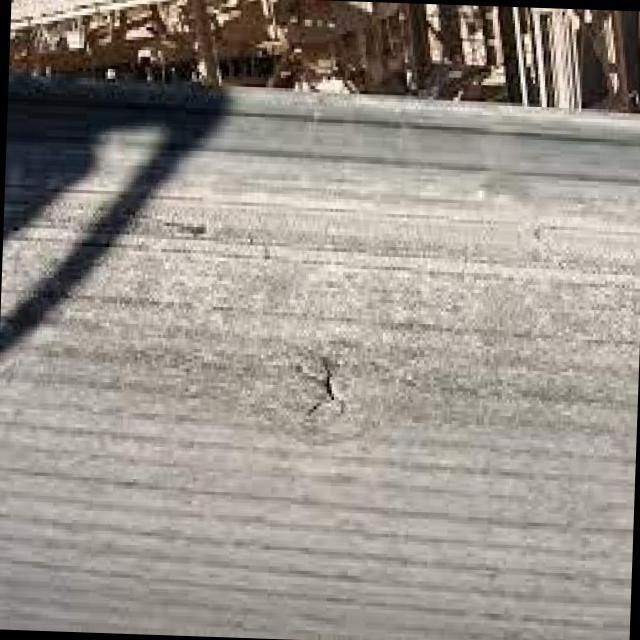Tear: (297, 339, 360, 422)
